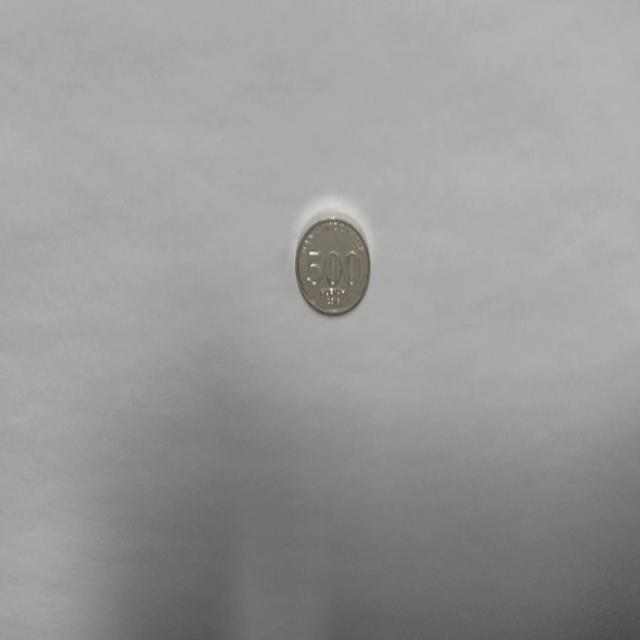lima ratus rupiah: (294, 212, 371, 316)
